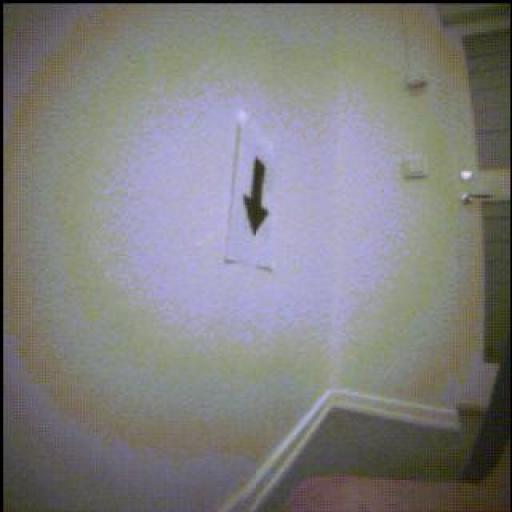arrow: (244, 160, 270, 237)
